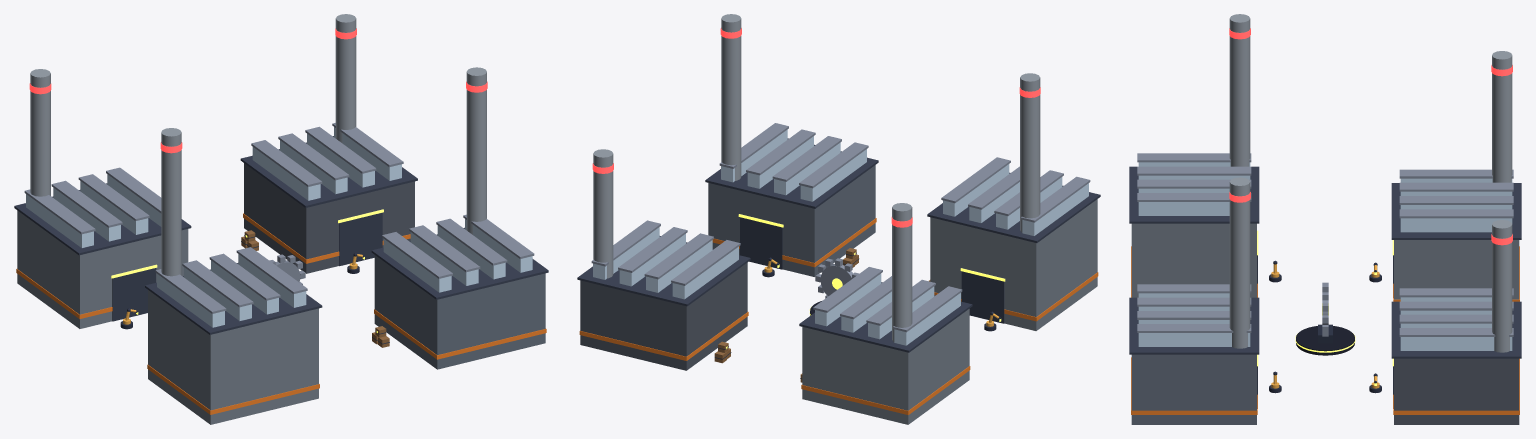
3 views of the same model, side by side, from view 1: azimuth 30°, elevation 25°; view 2: azimuth 150°, elevation 25°; view 3: azimuth 270°, elevation 25° (orthographic). The views are drawn at different scales.
Parts seen in each view (by area): view 1: district_city_taller.lod0; view 2: district_city_taller.lod0; view 3: district_city_taller.lod0.
Part boxes in pixels (<box>): district_city_taller.lod0: <box>14,14,548,424</box>; district_city_taller.lod0: <box>577,14,1100,424</box>; district_city_taller.lod0: <box>1129,14,1521,424</box>.
Bounding box in the file's own units: 34.4 × 24.21 × 34.4.
